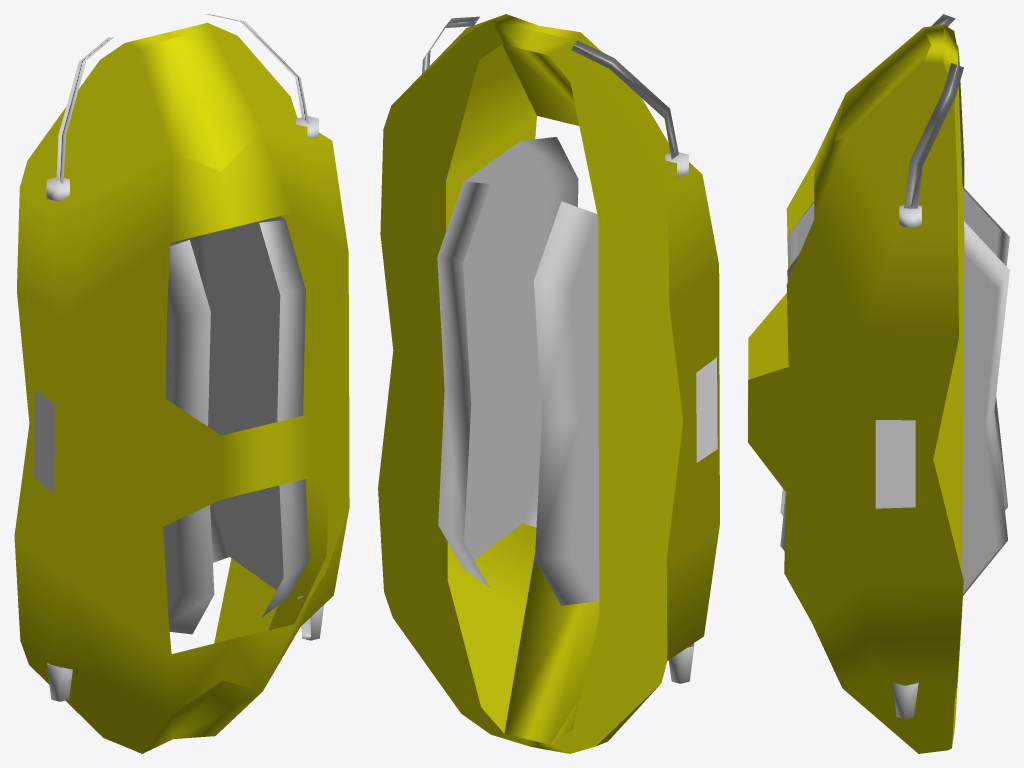
The model's file is Shared_Caliper_Car_BMW_M2_2016_Caliper03_L_FL.fbx.
3 renders of one model, left to right at view 1: azimuth 30°, elevation 25°; view 2: azimuth 150°, elevation 25°; view 3: azimuth 270°, elevation 25°, orthographic. The views are drawn at different scales.
Parts seen in each view (by area): view 1: Car_BMW_M4_2015_Caliper03_L_FL 1; view 2: Car_BMW_M4_2015_Caliper03_L_FL 1; view 3: Car_BMW_M4_2015_Caliper03_L_FL 1.
Part boxes in pixels (x1,y1,x2,y2): Car_BMW_M4_2015_Caliper03_L_FL 1: [14, 14, 349, 753]; Car_BMW_M4_2015_Caliper03_L_FL 1: [378, 14, 719, 753]; Car_BMW_M4_2015_Caliper03_L_FL 1: [748, 14, 1009, 753].
Bounding box in the file's own units: 0.1433 × 0.3305 × 0.1127.
